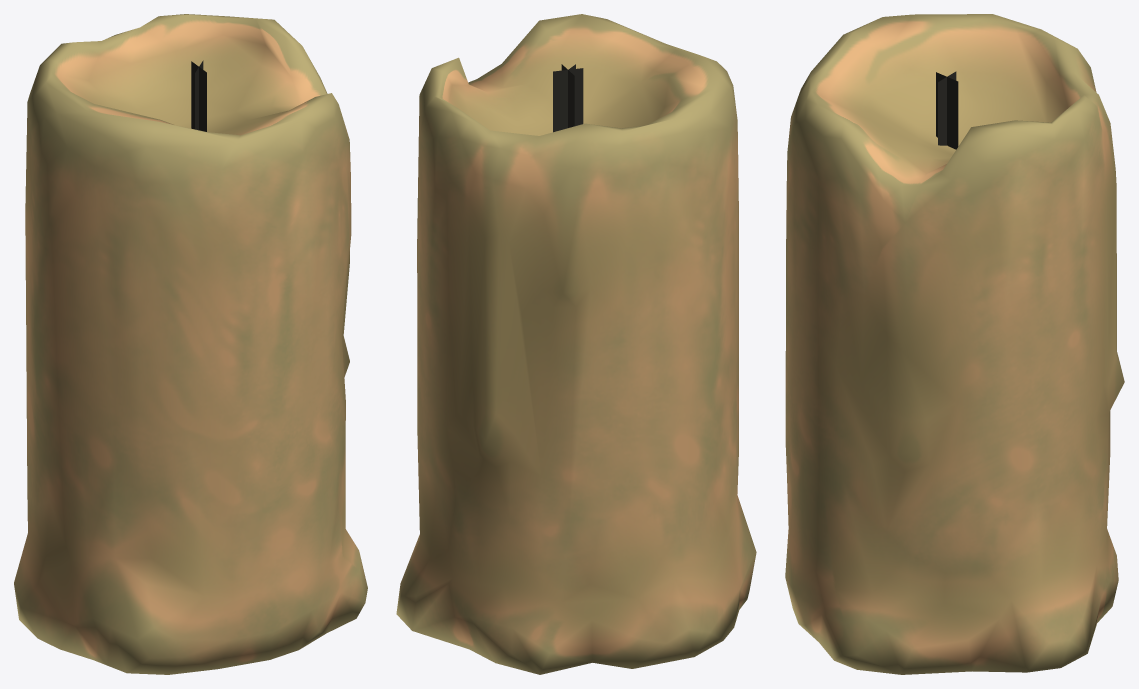
Rendered from SM_Candle_3.fbx.
3 renders of one model, left to right at view 1: azimuth 30°, elevation 25°; view 2: azimuth 150°, elevation 25°; view 3: azimuth 270°, elevation 25°, orthographic.
Visible parts, largest first — view 1: SM_Candle_3_LOD0; view 2: SM_Candle_3_LOD0; view 3: SM_Candle_3_LOD0.
Part boxes in pixels (left/top/right/bottom): SM_Candle_3_LOD0: left=14, top=14, right=367, bottom=674; SM_Candle_3_LOD0: left=396, top=14, right=756, bottom=674; SM_Candle_3_LOD0: left=785, top=14, right=1124, bottom=674.
Size of the model in its own units: 6.4 by 6.44 by 11.24.
